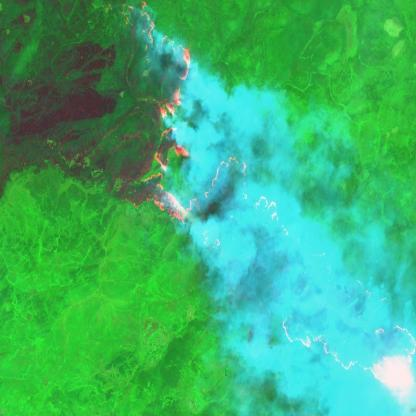fire: (118, 0, 416, 416)
